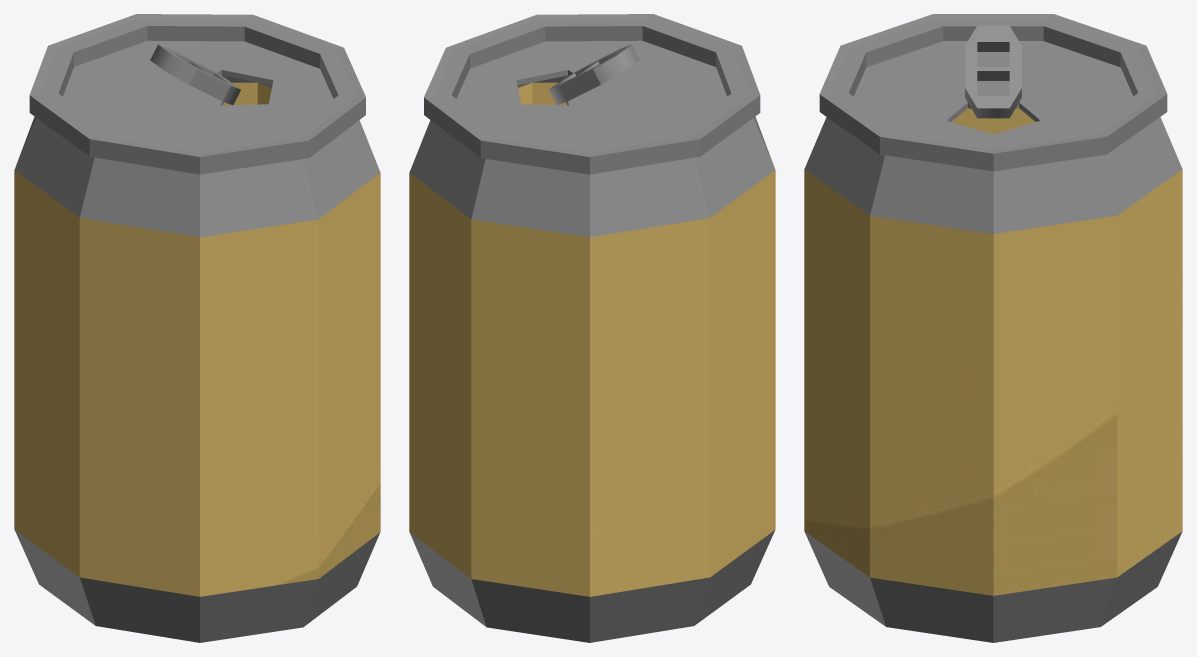
File: SodaCan_LowPoly.fbx
3 renders of one model, left to right at view 1: azimuth 30°, elevation 25°; view 2: azimuth 150°, elevation 25°; view 3: azimuth 270°, elevation 25°, orthographic.
Visible parts, largest first — view 1: pCylinder3; view 2: pCylinder3; view 3: pCylinder3.
Part boxes in pixels (x1,y1,x2,y2): pCylinder3: (14, 14, 380, 642); pCylinder3: (409, 14, 775, 642); pCylinder3: (804, 14, 1182, 642).
Bounding box in the file's own units: 0.4287 × 0.7029 × 0.4513.
Materials: 2 (1 with a texture image).
